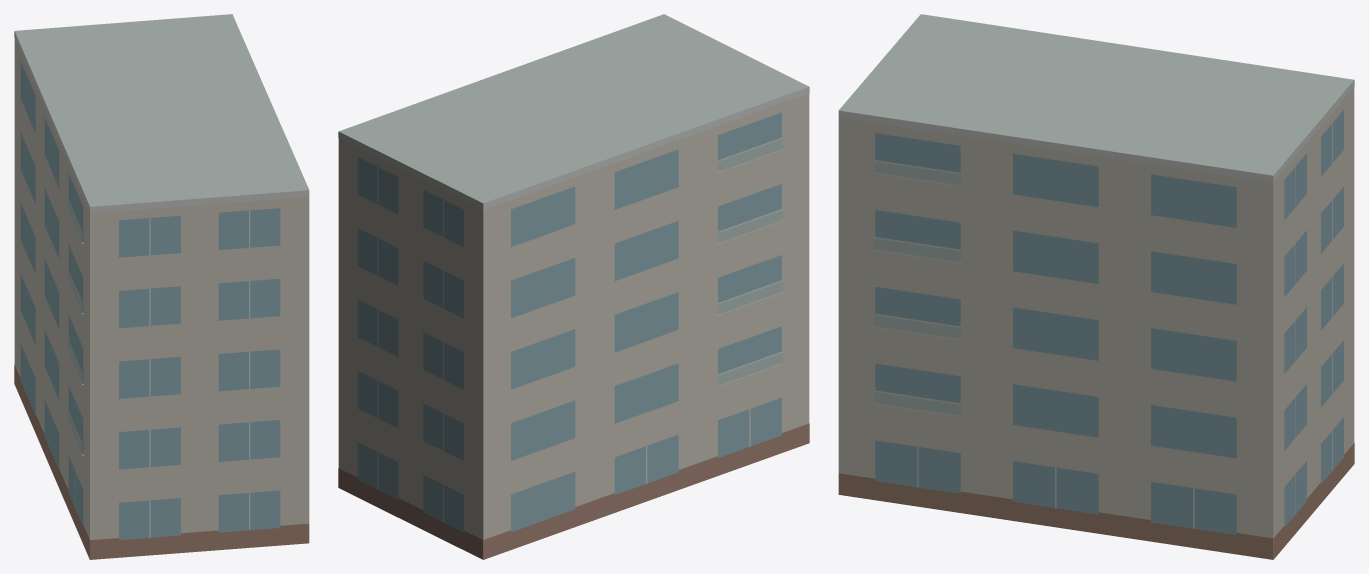
Rendered from survey-upis-32885794.glb.
3 views of the same model, side by side, from view 1: azimuth 30°, elevation 25°; view 2: azimuth 150°, elevation 25°; view 3: azimuth 270°, elevation 25° (orthographic). The views are drawn at different scales.
Visible parts, largest first — view 1: survey-upis-32885794.tmp; view 2: survey-upis-32885794.tmp; view 3: survey-upis-32885794.tmp.
Part boxes in pixels (box(x1,y1,x2,y2)): survey-upis-32885794.tmp: box(14, 14, 309, 559); survey-upis-32885794.tmp: box(338, 14, 809, 559); survey-upis-32885794.tmp: box(838, 14, 1354, 559).
Size of the model in its own units: 12.01 by 13.3 by 16.2.
